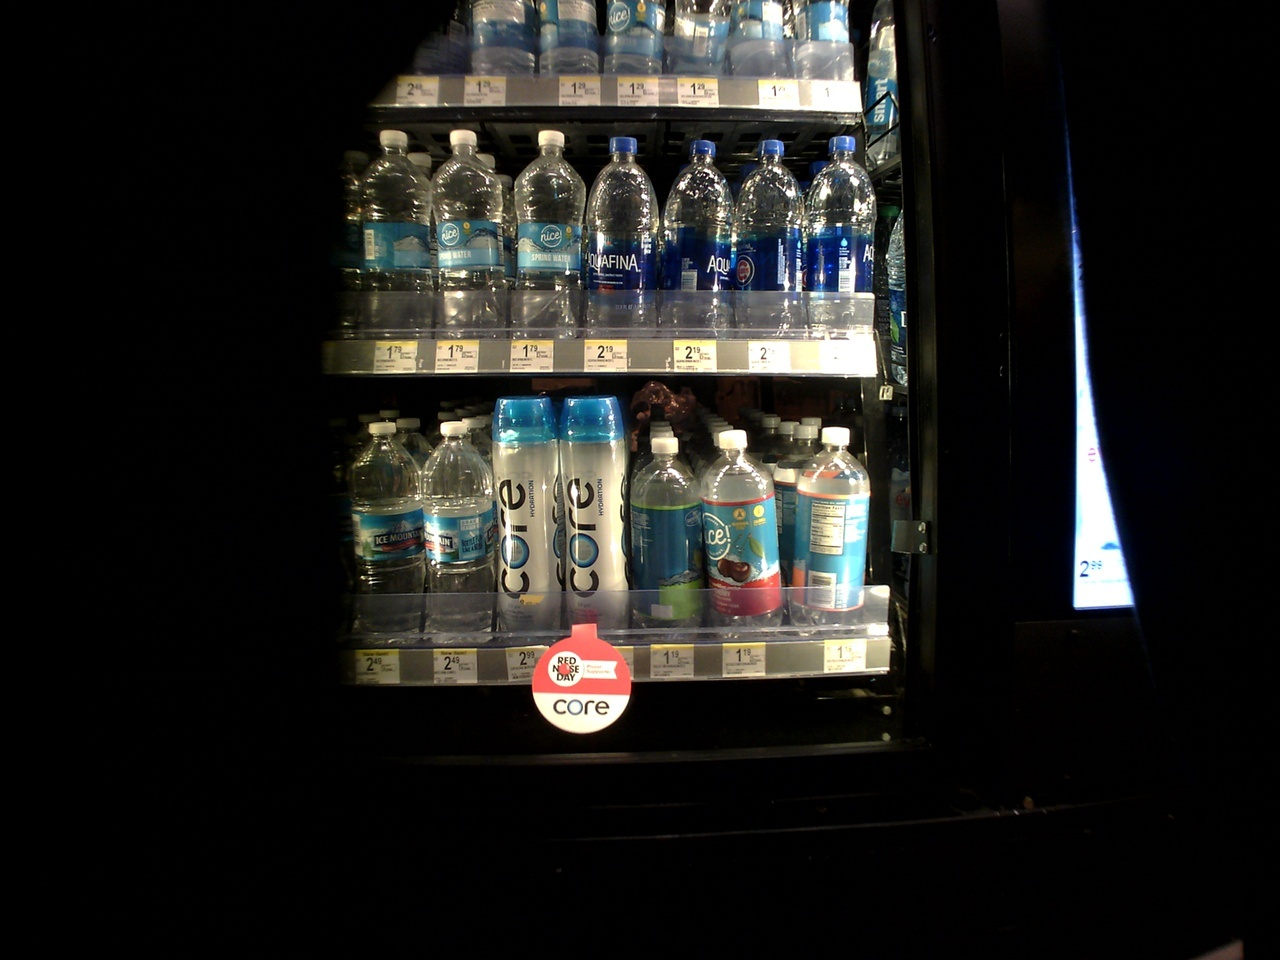shelf: (342, 383, 893, 678), (344, 127, 882, 365), (342, 1, 872, 125)
